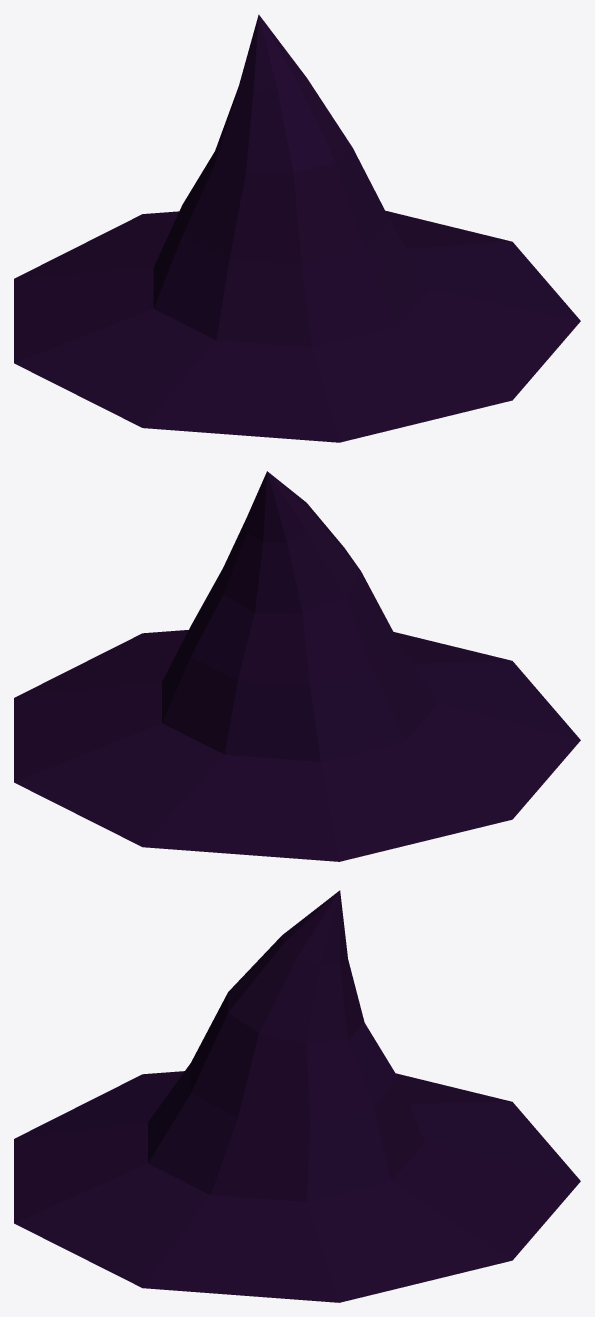
Rendered from witch_hat.glb.
3 views of the same model, one above another, from view 1: azimuth 30°, elevation 25°; view 2: azimuth 150°, elevation 25°; view 3: azimuth 270°, elevation 25° (orthographic).
Visible parts, largest first — view 1: Cone; view 2: Cone; view 3: Cone.
Boxes of the visible parts, bbox=[...] form: Cone: bbox=[14, 14, 580, 442]; Cone: bbox=[14, 471, 580, 861]; Cone: bbox=[14, 890, 580, 1302].
Bounding box in the file's own units: 4.03 × 2.29 × 3.97.
